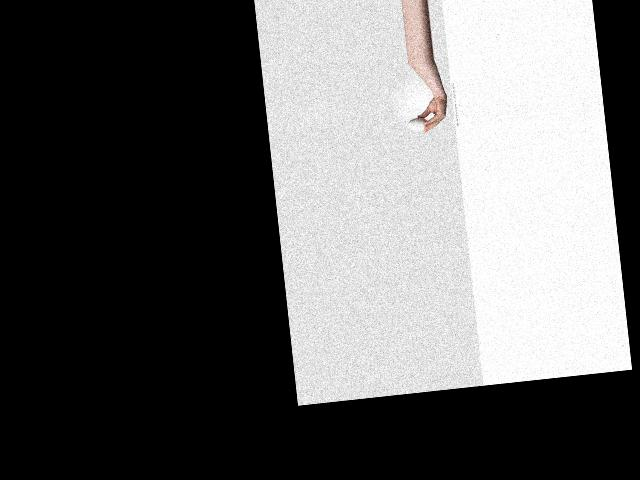egg: (406, 116, 428, 132)
